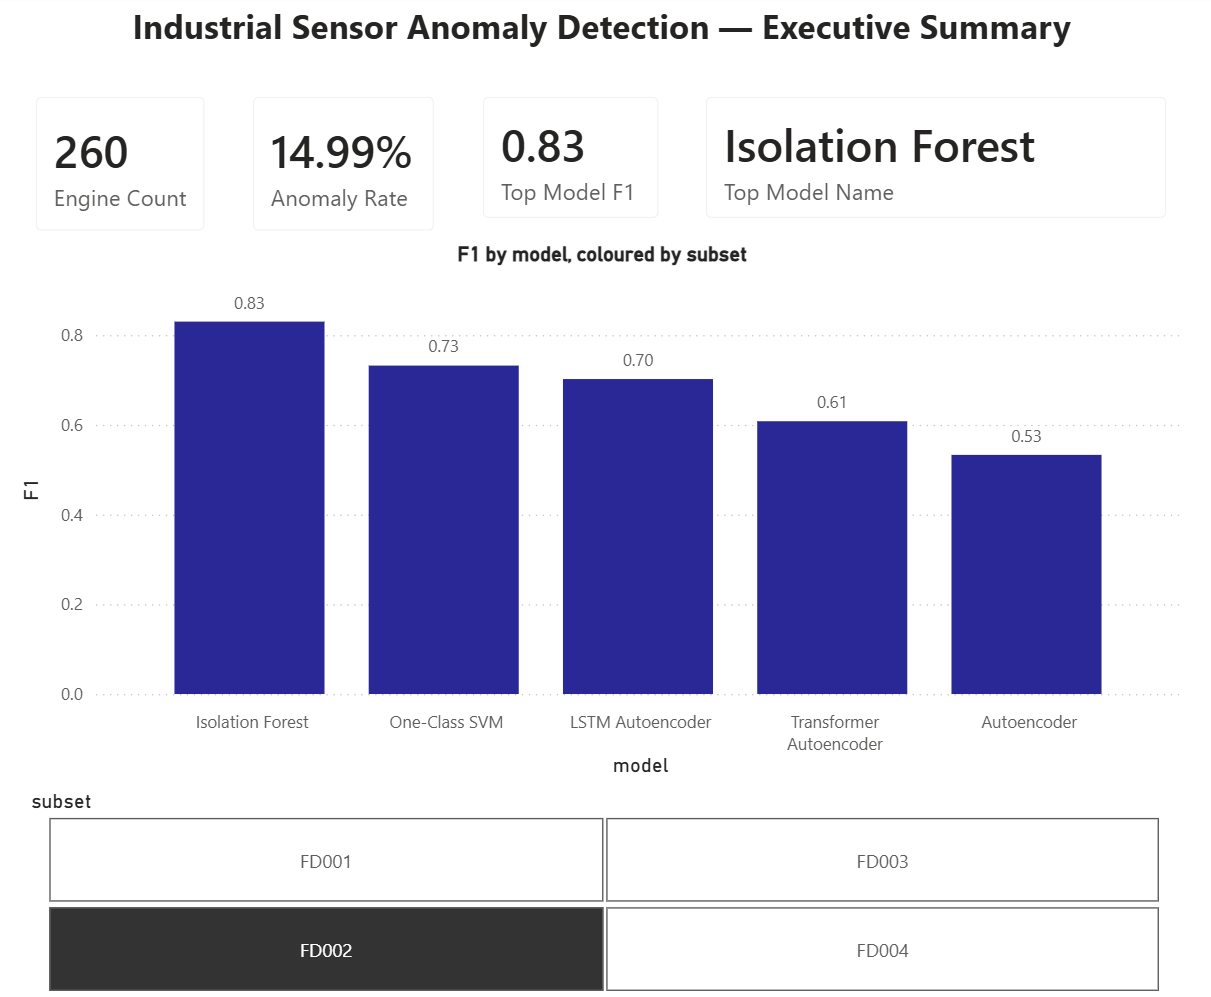

Layout of this report page (visuals, bound fields, positions):
{"tool":"powerbi","page":{"name":"Executive Summary","canvas":[1280,720],"ordinal":0},"visuals":[{"type":"textbox","box":[10.3,0,844.9,280.7],"z":0},{"type":"cardVisual","fields":{"Data":["cycles.Engine Count"]},"box":[10.3,55.2,155.3,130.1],"z":1000},{"type":"cardVisual","fields":{"Data":["cycles.Anomaly Rate"]},"box":[165.6,55.2,164.7,130.1],"z":2000},{"type":"cardVisual","fields":{"Data":["model_comparison.Top Model F1"]},"box":[330.3,55.2,160,121.6],"z":3000},{"type":"cardVisual","fields":{"Data":["model_comparison.Top Model Name"]},"box":[490.3,55.2,364.9,121.6],"z":4000},{"type":"columnChart","title":"F1 by model, coloured by subset","fields":{"Category":["model_comparison.model"],"Y":["Sum(model_comparison.F1)"],"Series":["model_comparison.subset"]},"box":[10.8,176.8,844.3,387.1],"z":5000},{"type":"slicer","fields":{"Values":["subsets.subset"]},"box":[10.8,564,845.4,156.4],"z":6000}]}

Visuals, with their boxes on the page's 1280x720 design canvas (x1, y1, x2, y2). These are canvas units, not pixel positions in the 1211x997 screenshot, which may show the page scaled, cropped or inside an application window:
textbox: (10, 0, 855, 281)
cardVisual - cycles.Engine Count: (10, 55, 166, 185)
cardVisual - cycles.Anomaly Rate: (166, 55, 330, 185)
cardVisual - model_comparison.Top Model F1: (330, 55, 490, 177)
cardVisual - model_comparison.Top Model Name: (490, 55, 855, 177)
"F1 by model, coloured by subset" columnChart: (11, 177, 855, 564)
slicer - subsets.subset: (11, 564, 856, 720)
